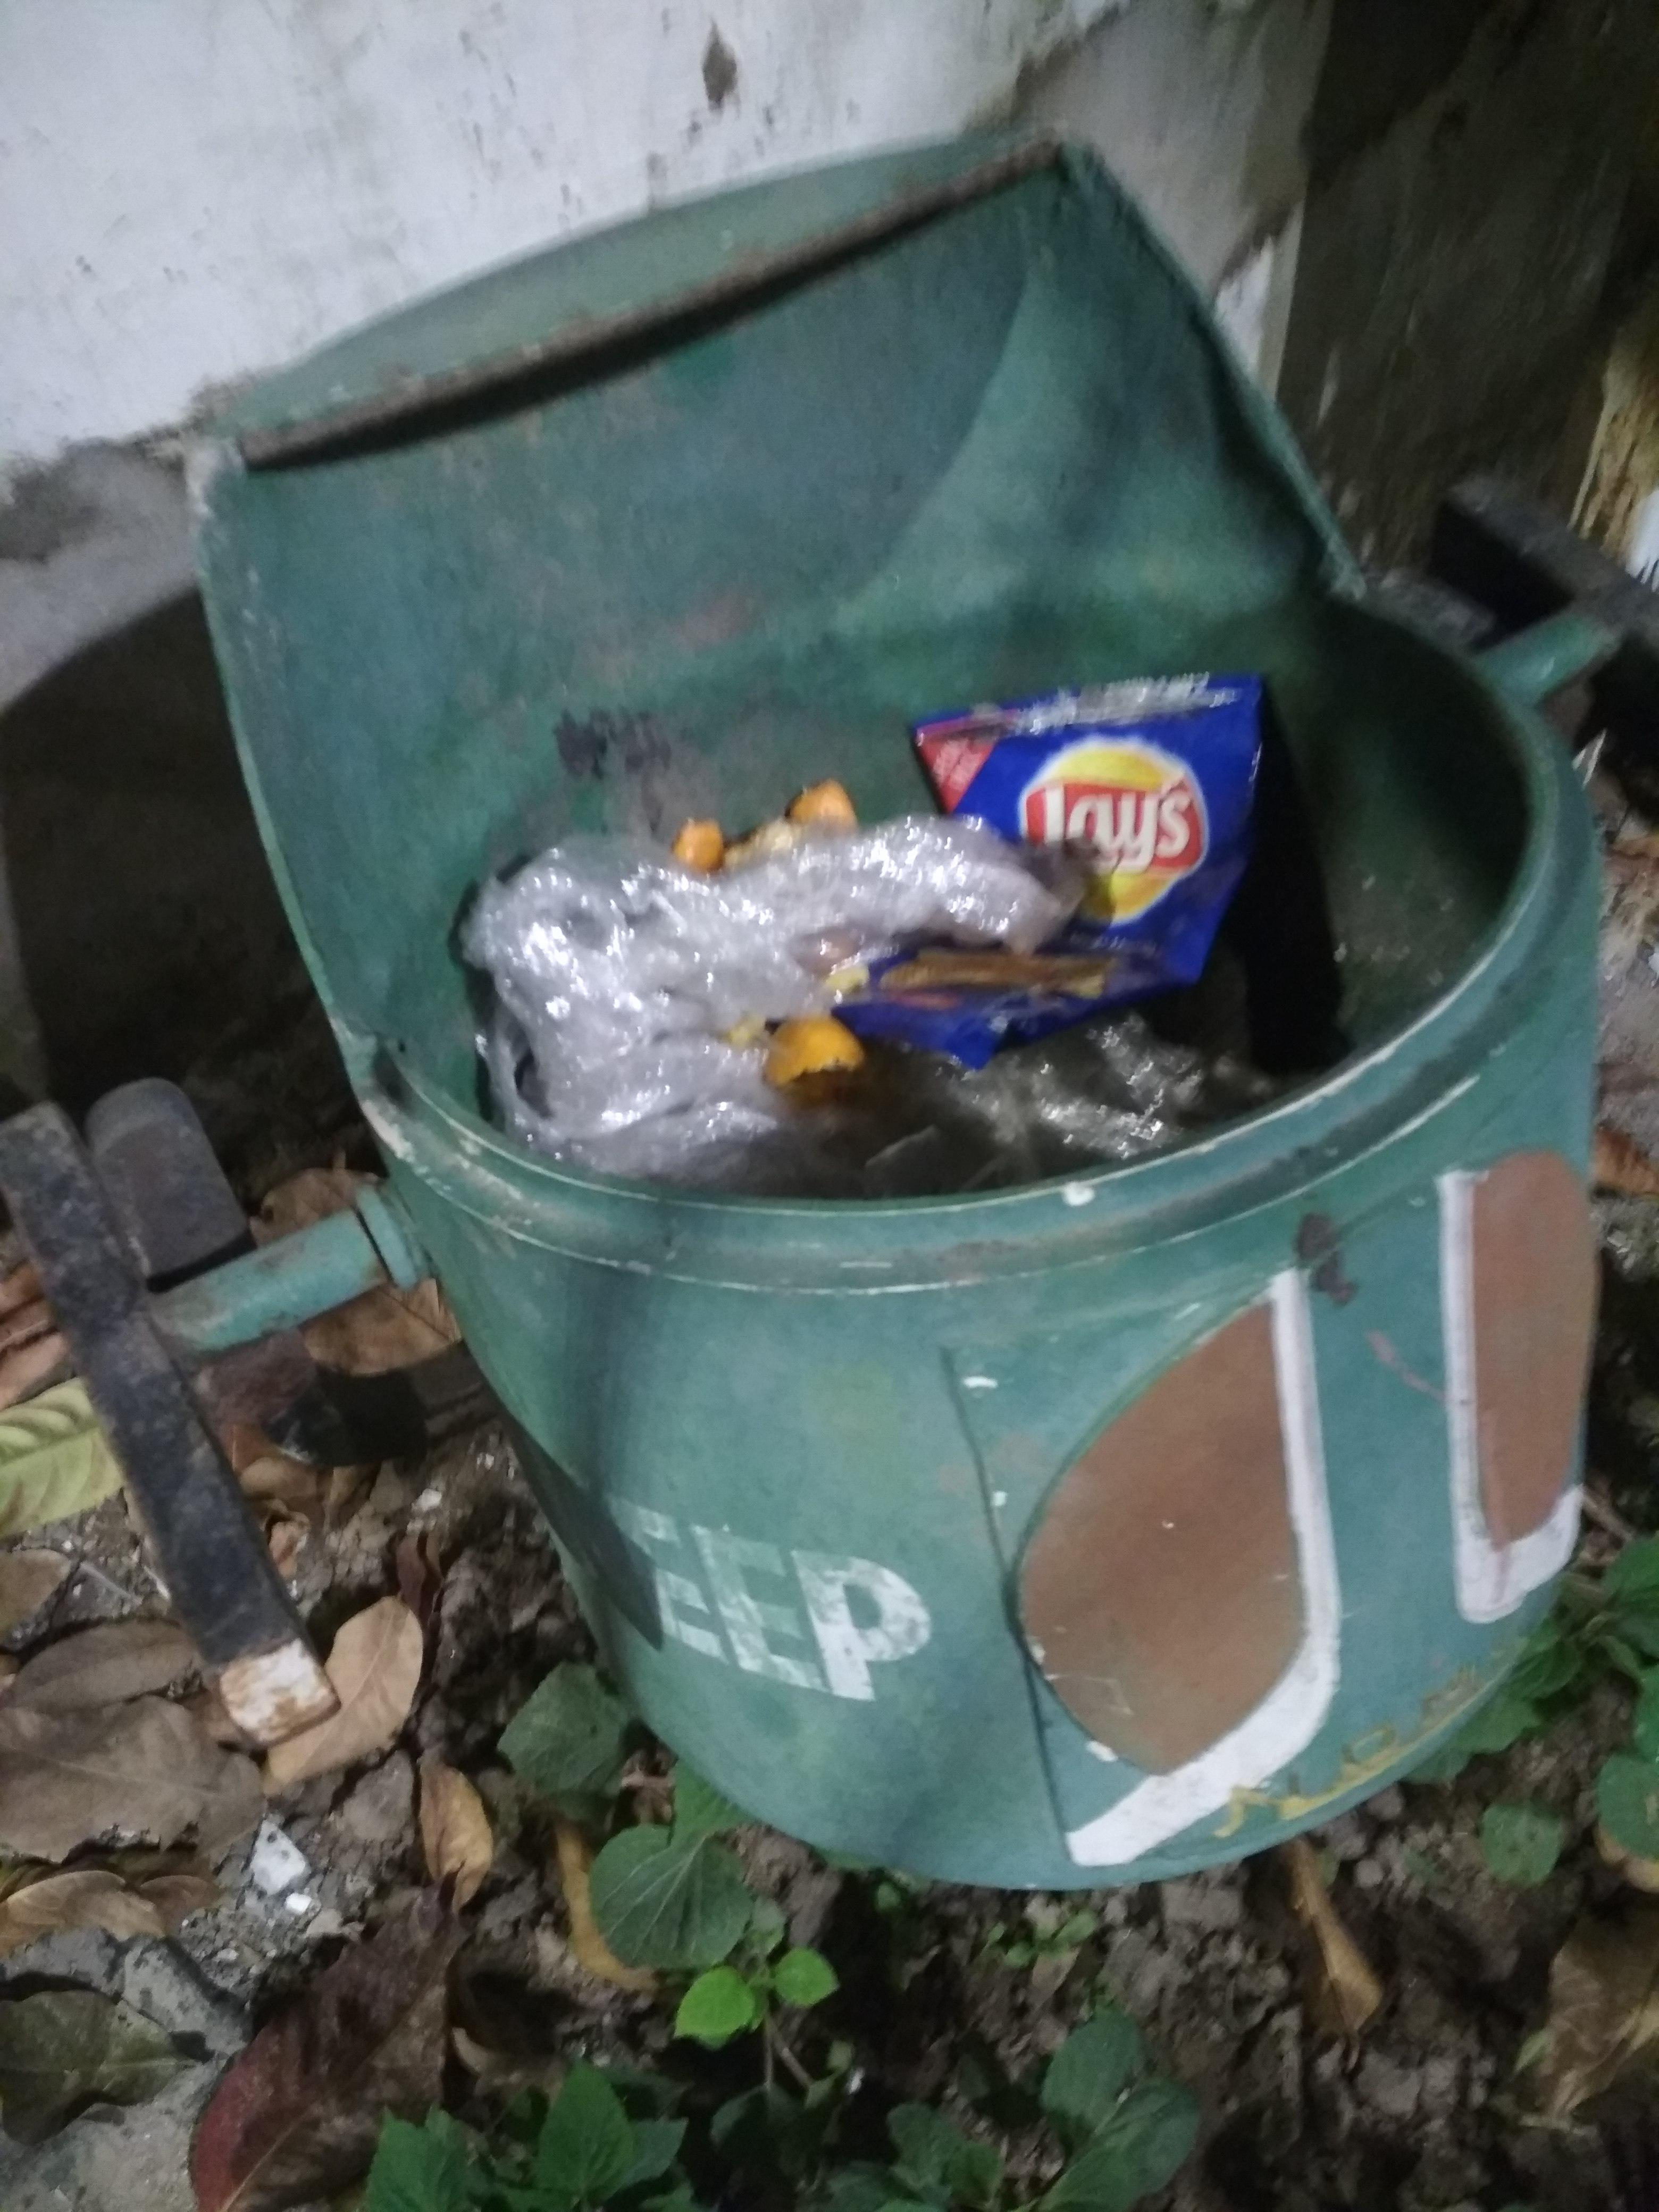trash: (146, 91, 1659, 1898)
